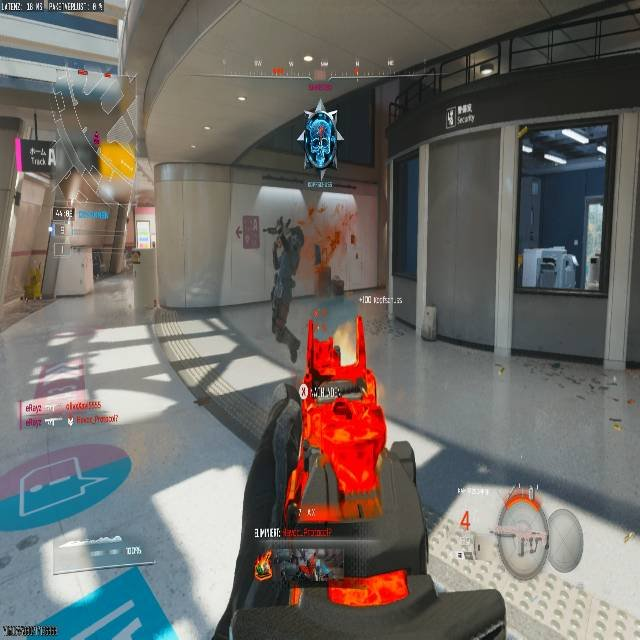head: (314, 99, 327, 113)
player: (296, 97, 344, 180)
